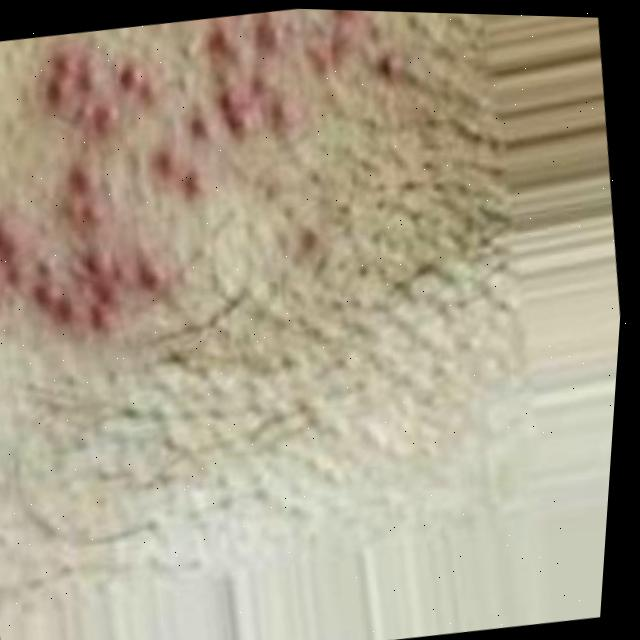Shingles: (0, 0, 435, 362)
